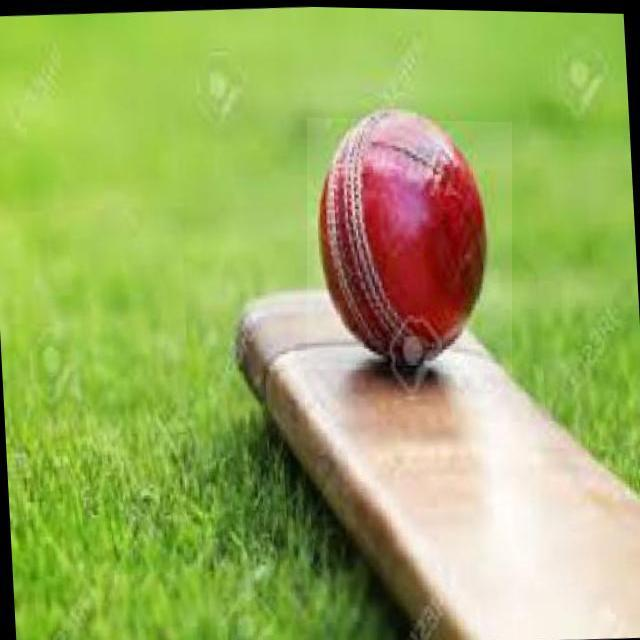Red_Ball: (308, 118, 520, 389)
